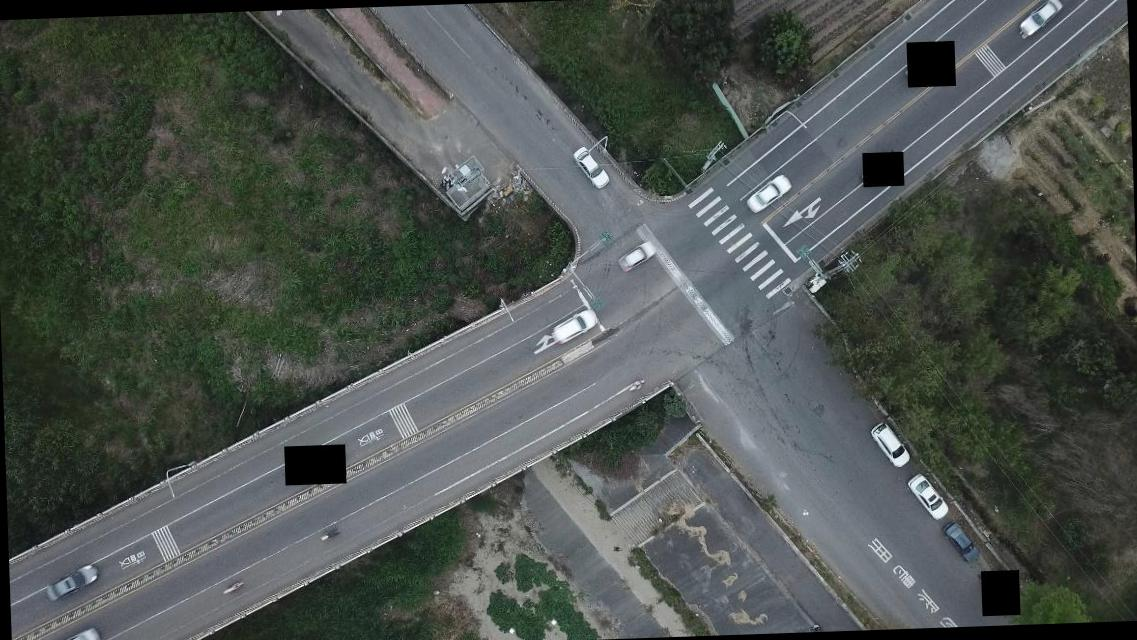vehicle: (548, 306, 601, 345), (46, 562, 100, 600), (870, 420, 912, 468), (906, 473, 948, 521), (744, 172, 791, 214), (1017, 0, 1066, 38), (570, 146, 609, 188), (944, 520, 982, 563), (614, 239, 658, 272), (45, 624, 104, 639)
